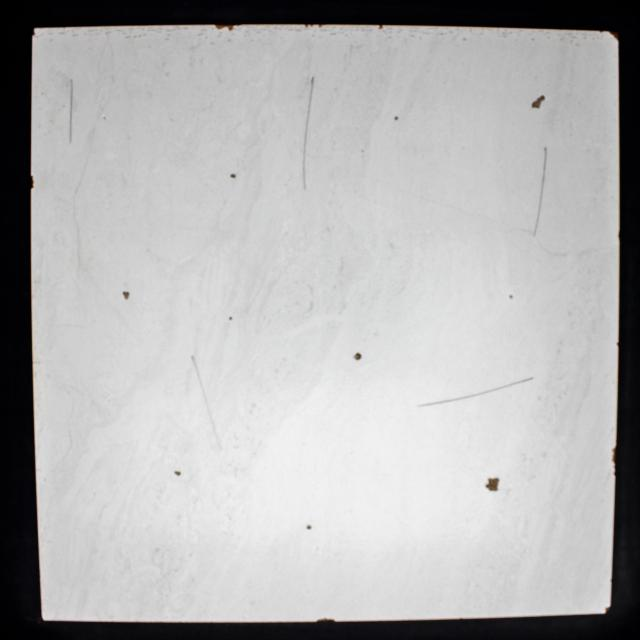edge-chipping: (212, 24, 244, 32), (610, 446, 617, 477), (607, 30, 619, 42), (316, 617, 336, 622), (304, 23, 323, 28), (30, 174, 35, 190), (604, 606, 612, 614), (32, 28, 36, 36)
hole: (530, 94, 547, 110), (486, 475, 500, 494), (352, 351, 362, 362), (122, 289, 130, 302), (229, 172, 238, 180), (174, 470, 182, 478), (227, 316, 234, 322), (306, 523, 312, 530), (508, 294, 514, 300), (394, 115, 399, 121)
line: (412, 374, 538, 411), (186, 352, 226, 453), (530, 144, 552, 240), (300, 75, 316, 191), (67, 77, 75, 146)
